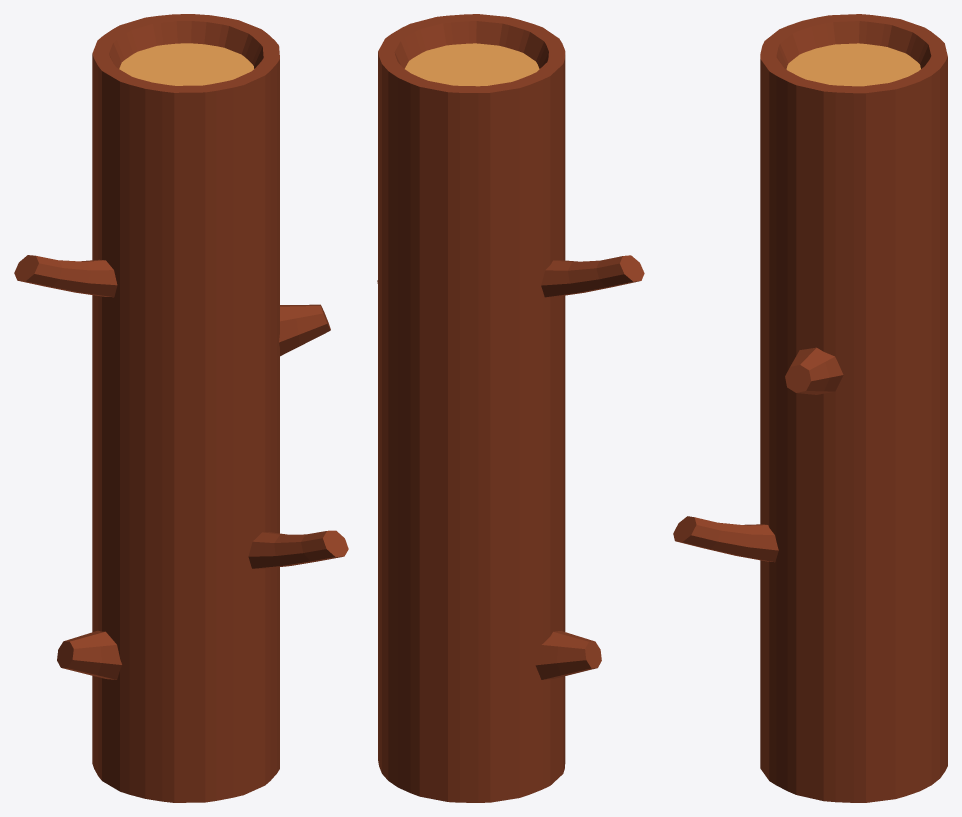
The model's file is log.fbx.
3 renders of one model, left to right at view 1: azimuth 30°, elevation 25°; view 2: azimuth 150°, elevation 25°; view 3: azimuth 270°, elevation 25°, orthographic.
Visible parts, largest first — view 1: log, knob.001, knob, knob.002, knob.003; view 2: log, knob.001, knob.002; view 3: log, knob, knob.003.
Boxes of the visible parts, x1,y1,x2,y2 form: log: (92, 14, 279, 802); knob.001: (14, 255, 117, 297); knob: (248, 530, 348, 568); knob.002: (57, 630, 121, 679); knob.003: (279, 304, 330, 356); log: (378, 14, 565, 802); knob.001: (541, 255, 644, 297); knob.002: (535, 631, 601, 679); log: (760, 14, 947, 802); knob: (673, 516, 778, 562); knob.003: (785, 347, 843, 394).
Size of the model in its own units: 3619 by 8550 by 3000.
